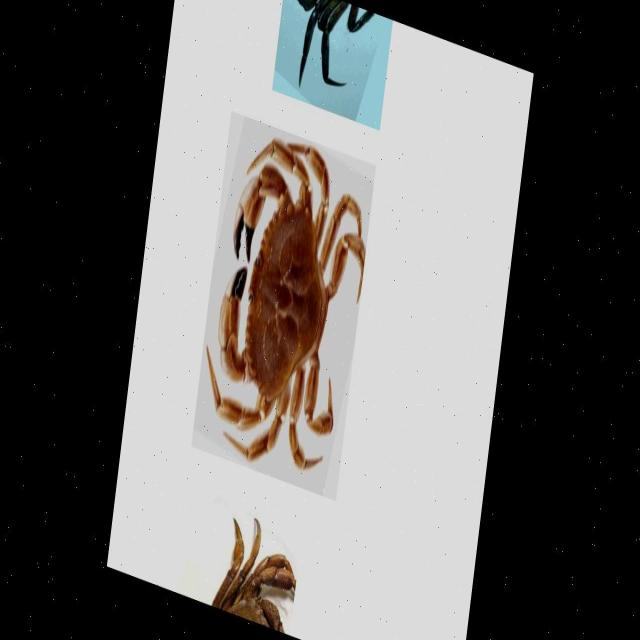egc: (297, 0, 375, 90)
